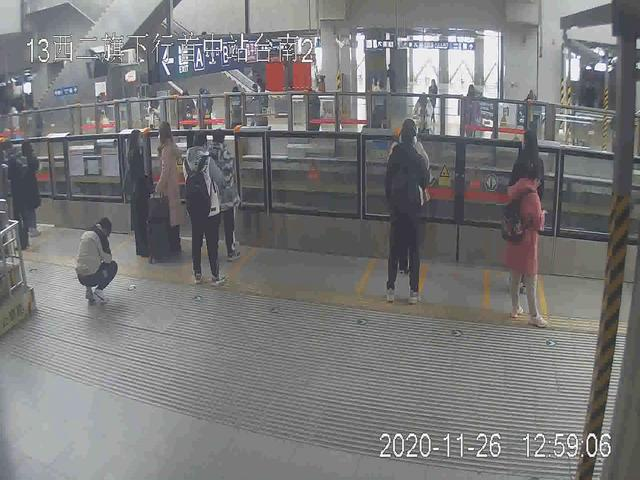person: (385, 129, 432, 304), (501, 165, 547, 325), (499, 130, 545, 290), (185, 131, 229, 287), (211, 126, 245, 262), (123, 130, 160, 252), (155, 119, 186, 258), (76, 217, 119, 306)
